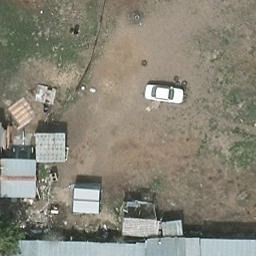car: (142, 83, 185, 104)
